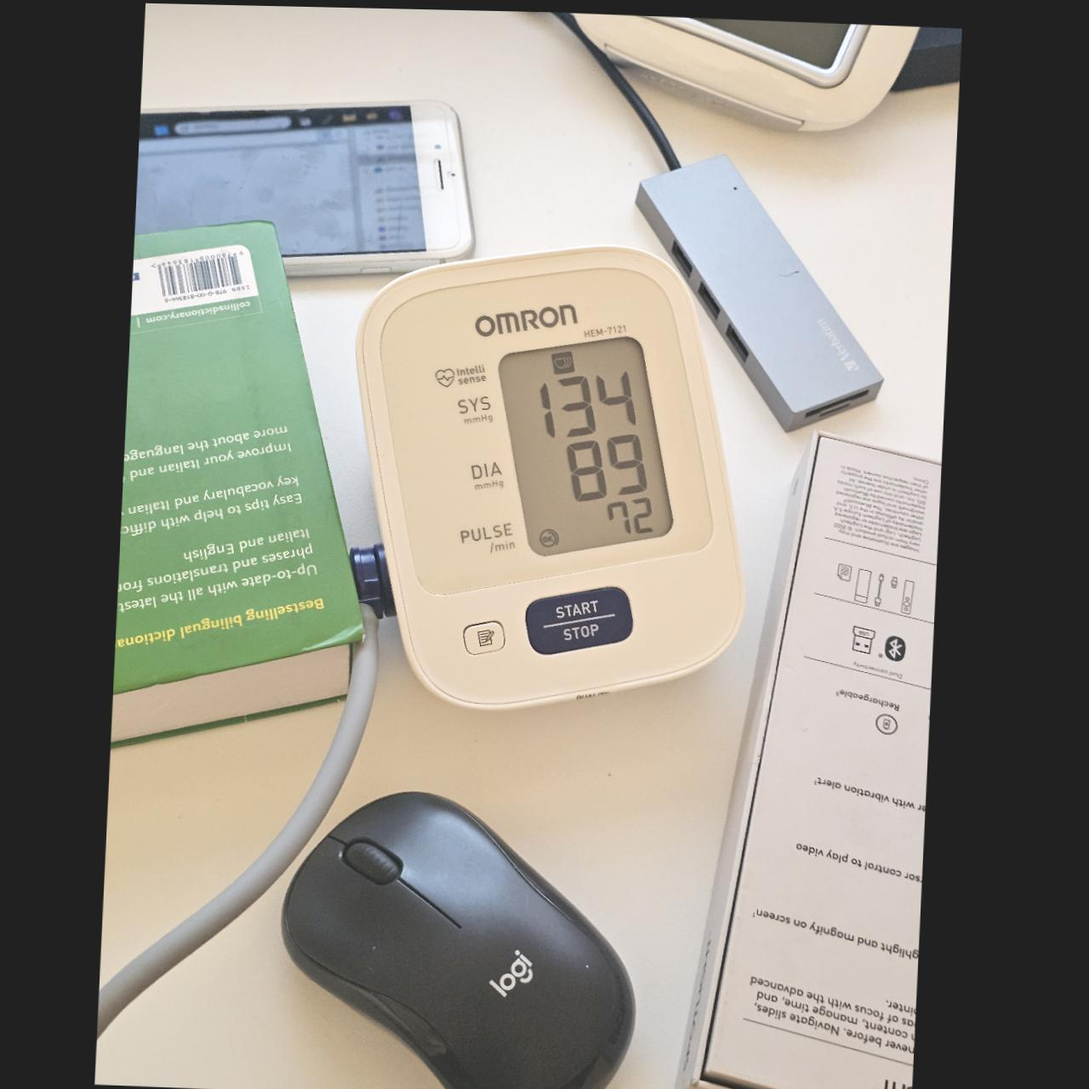lcd display: (486, 328, 684, 565)
